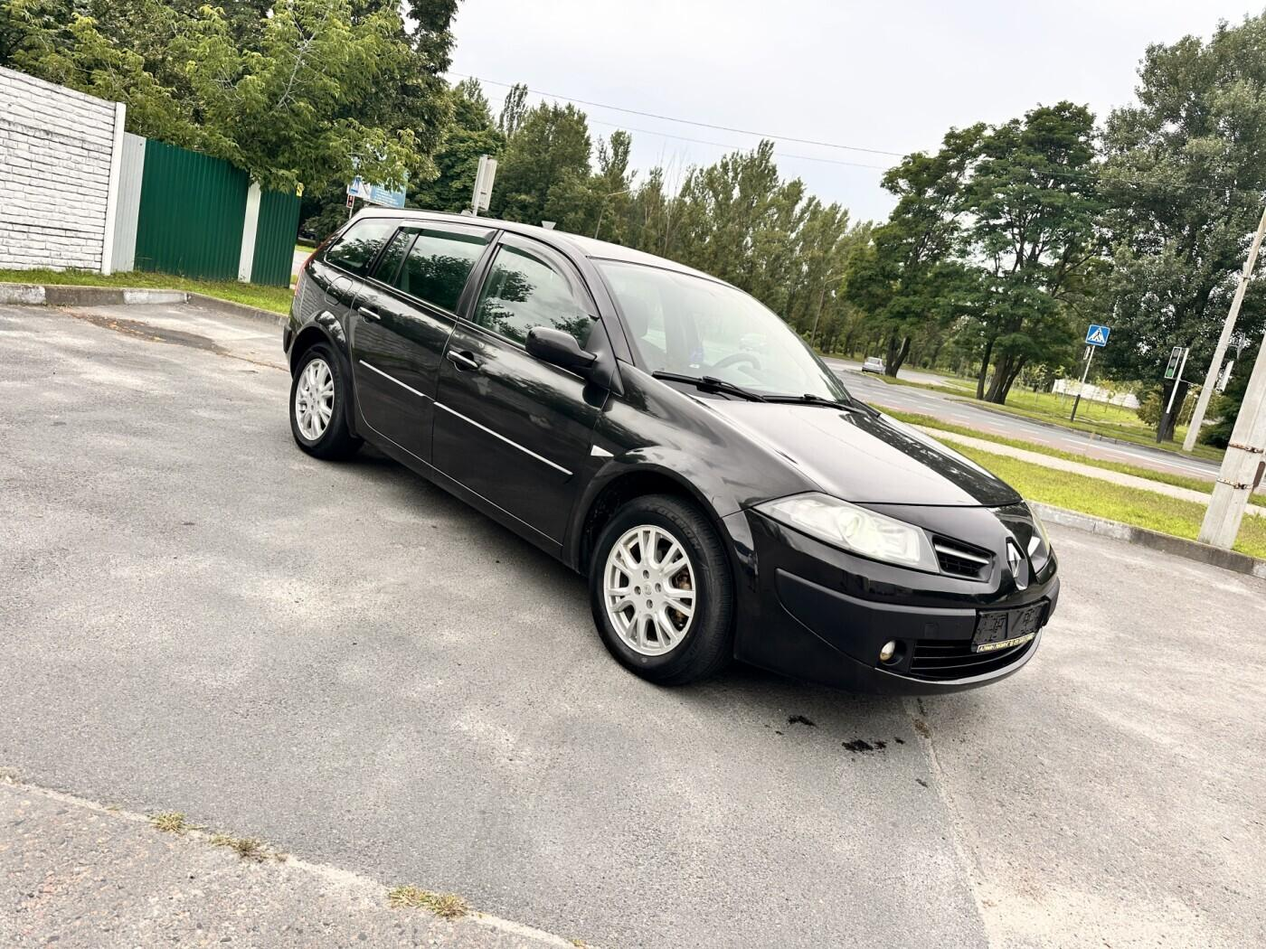Megane_2005-2009: (279, 200, 1075, 740)
